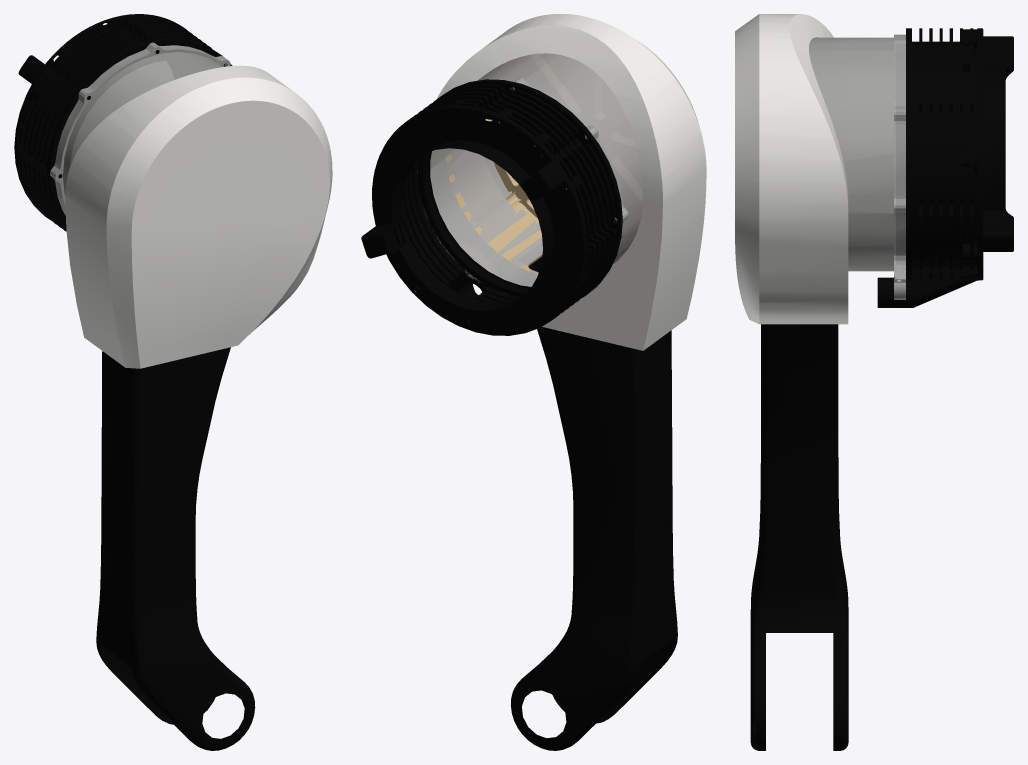
File: R_Thigh.dae
3 renders of one model, left to right at view 1: azimuth 30°, elevation 25°; view 2: azimuth 150°, elevation 25°; view 3: azimuth 270°, elevation 25°, orthographic. The views are drawn at different scales.
Parts seen in each view (by area): view 1: Mesh (×5); view 2: Mesh (×6); view 3: Mesh (×5).
Part boxes in pixels (<box>): Mesh (×5): <box>14,14,332,750</box>; Mesh (×6): <box>361,14,706,750</box>; Mesh (×5): <box>735,14,1013,750</box>.
Bounding box in the file's own units: 0.138 × 0.137 × 0.3901.
